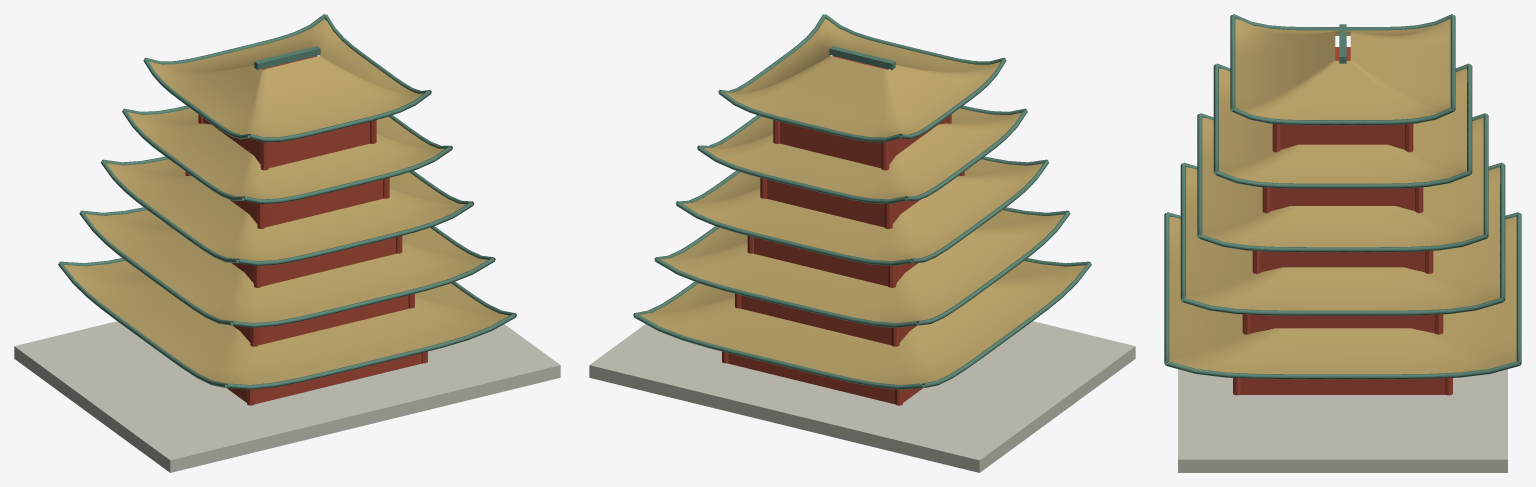
Rendered from wuhan.glb.
3 views of the same model, side by side, from view 1: azimuth 30°, elevation 25°; view 2: azimuth 150°, elevation 25°; view 3: azimuth 270°, elevation 25° (orthographic). The views are drawn at different scales.
Visible parts, largest first — view 1: stone plinth, crane tower roof, crane tower roof.001, crane tower roof.004, crane tower roof.002, crane tower roof.003, tower story.004, tower story.003, tower story.002, tower story.001, tower story, green glazed edge (+12 smaller); view 2: stone plinth, crane tower roof, crane tower roof.001, crane tower roof.004, crane tower roof.002, crane tower roof.003, tower story.004, tower story.003, tower story.002, tower story.001, tower story, green glazed edge.002 (+12 smaller); view 3: stone plinth, crane tower roof, crane tower roof.004, crane tower roof.001, crane tower roof.002, crane tower roof.003, tower story, tower story.002, tower story.004, tower story.003, tower story.001, green glazed edge.001 (+15 smaller).
Part boxes in pixels (bbox=[...]): stone plinth: bbox=[14, 321, 560, 472]; crane tower roof: bbox=[64, 260, 509, 385]; crane tower roof.001: bbox=[85, 210, 487, 323]; crane tower roof.004: bbox=[149, 18, 423, 137]; crane tower roof.002: bbox=[106, 159, 466, 261]; crane tower roof.003: bbox=[128, 108, 444, 199]; tower story.004: bbox=[203, 56, 369, 167]; tower story.003: bbox=[190, 175, 383, 227]; tower story.002: bbox=[232, 237, 396, 286]; tower story.001: bbox=[233, 295, 409, 345]; tower story: bbox=[227, 353, 422, 404]; green glazed edge: bbox=[225, 313, 515, 389]; stone plinth: bbox=[589, 321, 1135, 472]; crane tower roof: bbox=[640, 261, 1085, 385]; crane tower roof.001: bbox=[661, 210, 1064, 323]; crane tower roof.004: bbox=[725, 18, 1000, 137]; crane tower roof.002: bbox=[683, 159, 1043, 261]; crane tower roof.003: bbox=[704, 108, 1021, 199]; tower story.004: bbox=[780, 56, 946, 167]; tower story.003: bbox=[766, 175, 959, 227]; tower story.002: bbox=[753, 237, 917, 286]; tower story.001: bbox=[740, 295, 916, 345]; tower story: bbox=[727, 353, 922, 404]; green glazed edge.002: bbox=[634, 313, 924, 389]; stone plinth: bbox=[1178, 369, 1507, 472]; crane tower roof: bbox=[1169, 216, 1516, 374]; crane tower roof.004: bbox=[1233, 19, 1452, 119]; crane tower roof.001: bbox=[1183, 167, 1502, 310]; crane tower roof.002: bbox=[1200, 117, 1485, 247]; crane tower roof.003: bbox=[1216, 68, 1469, 183]; tower story: bbox=[1240, 378, 1445, 394]; tower story.002: bbox=[1261, 251, 1424, 272]; tower story.004: bbox=[1281, 47, 1404, 149]; tower story.003: bbox=[1271, 188, 1414, 210]; tower story.001: bbox=[1251, 314, 1434, 333]; green glazed edge.001: bbox=[1166, 361, 1519, 379].
Size of the model in its own units: 6.5 by 4.98 by 4.87.
